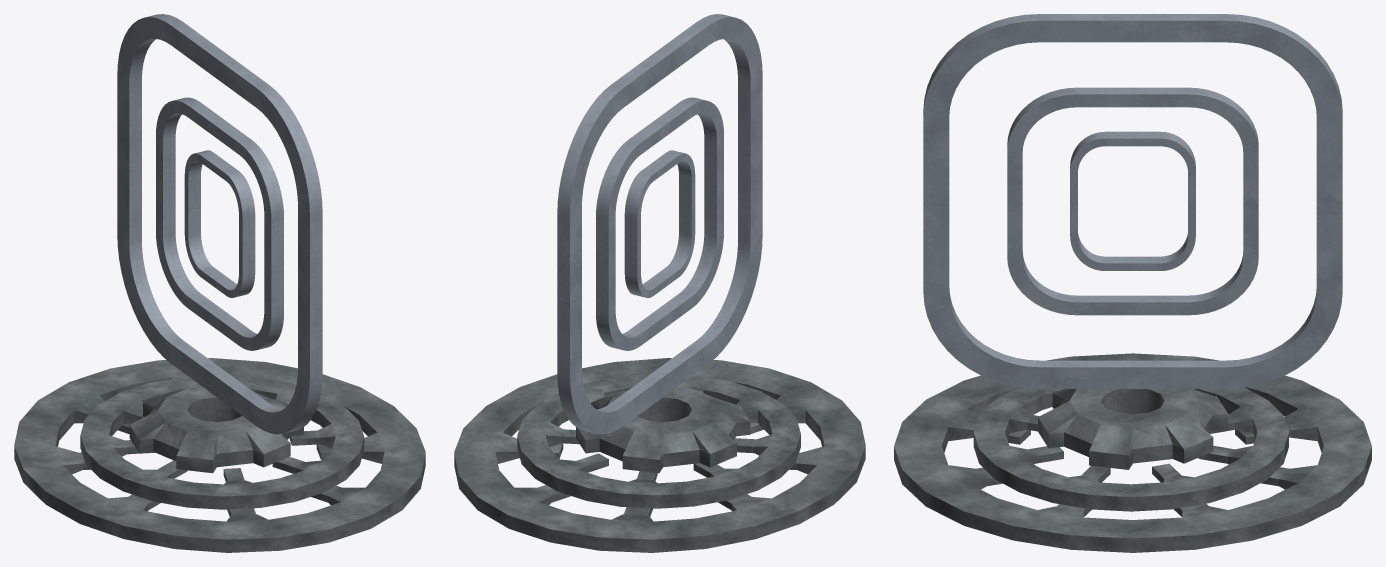
File: reactor.glb
3 views of the same model, side by side, from view 1: azimuth 30°, elevation 25°; view 2: azimuth 150°, elevation 25°; view 3: azimuth 270°, elevation 25° (orthographic). The views are drawn at different scales.
Parts seen in each view (by area): view 1: base, outer_rim, middle_rim, inner_rim; view 2: base, outer_rim, middle_rim, inner_rim; view 3: base, outer_rim, middle_rim, inner_rim.
Boxes of the visible parts, bbox=[...] form: base: bbox=[14, 358, 425, 552]; outer_rim: bbox=[117, 14, 322, 434]; middle_rim: bbox=[156, 97, 283, 350]; inner_rim: bbox=[184, 150, 255, 297]; base: bbox=[454, 358, 865, 552]; outer_rim: bbox=[557, 14, 762, 434]; middle_rim: bbox=[596, 97, 723, 350]; inner_rim: bbox=[624, 150, 695, 297]; base: bbox=[894, 353, 1371, 552]; outer_rim: bbox=[923, 14, 1342, 388]; middle_rim: bbox=[1007, 87, 1258, 315]; inner_rim: bbox=[1070, 131, 1195, 270].
Bounding box in the file's own units: 2.75 × 3.07 × 3.
4 materials, 4 textured.
